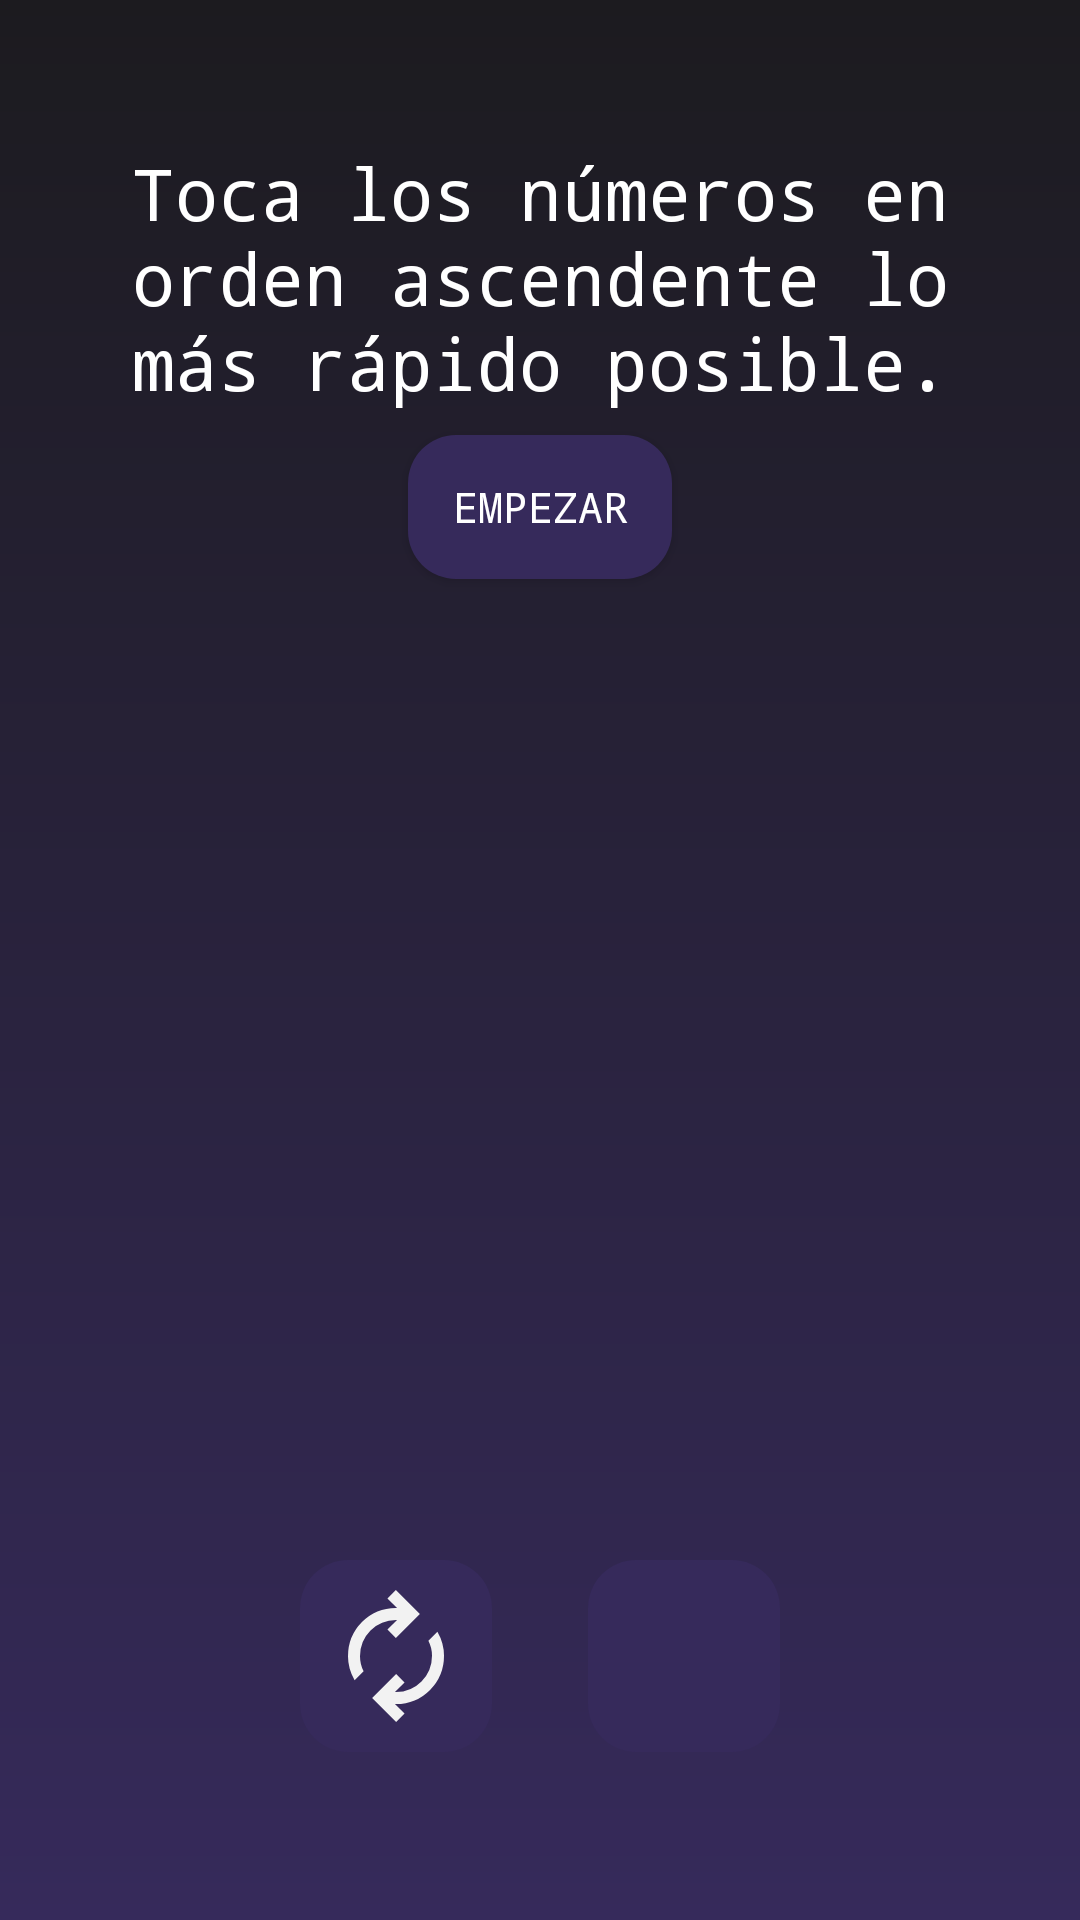

Point at icon controls on the screen. Image size 1080w x 1920h, points as [x,y].
Reintentar juego: [396,1656]
